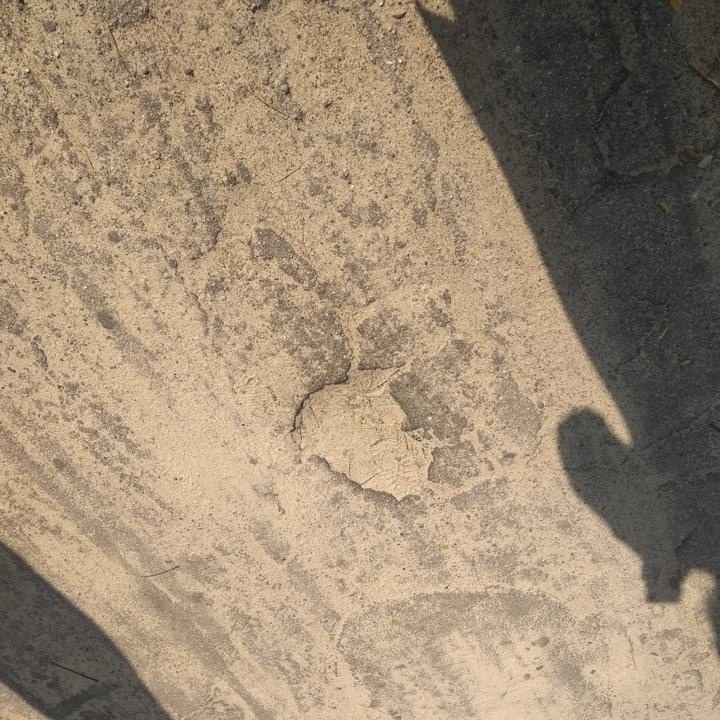pothole: (284, 364, 444, 506)
